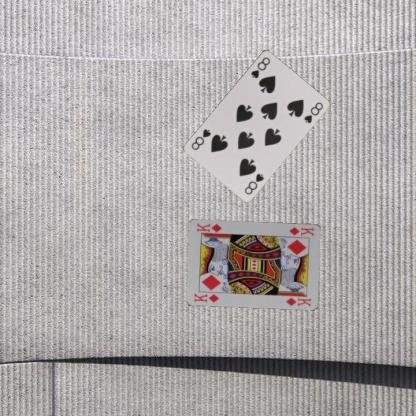8s: (242, 170, 265, 196), (249, 54, 272, 79)
Kd: (287, 224, 315, 238), (192, 291, 220, 303)
